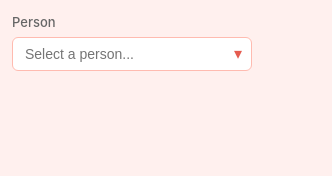
Scenario: searchable menu integrations › selects a person by name and does not offer a selectable empty person
The width and height of the screenshot is (332, 176).
Later steps or results of the test are not shown.
Click the dropdown labelled "Person".
click(132, 54)  # box [12,37,252,71]
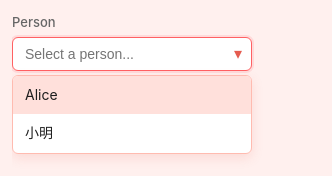
expect the number of options is 2: met, box [13,76,251,114]; [25,124,53,141]
